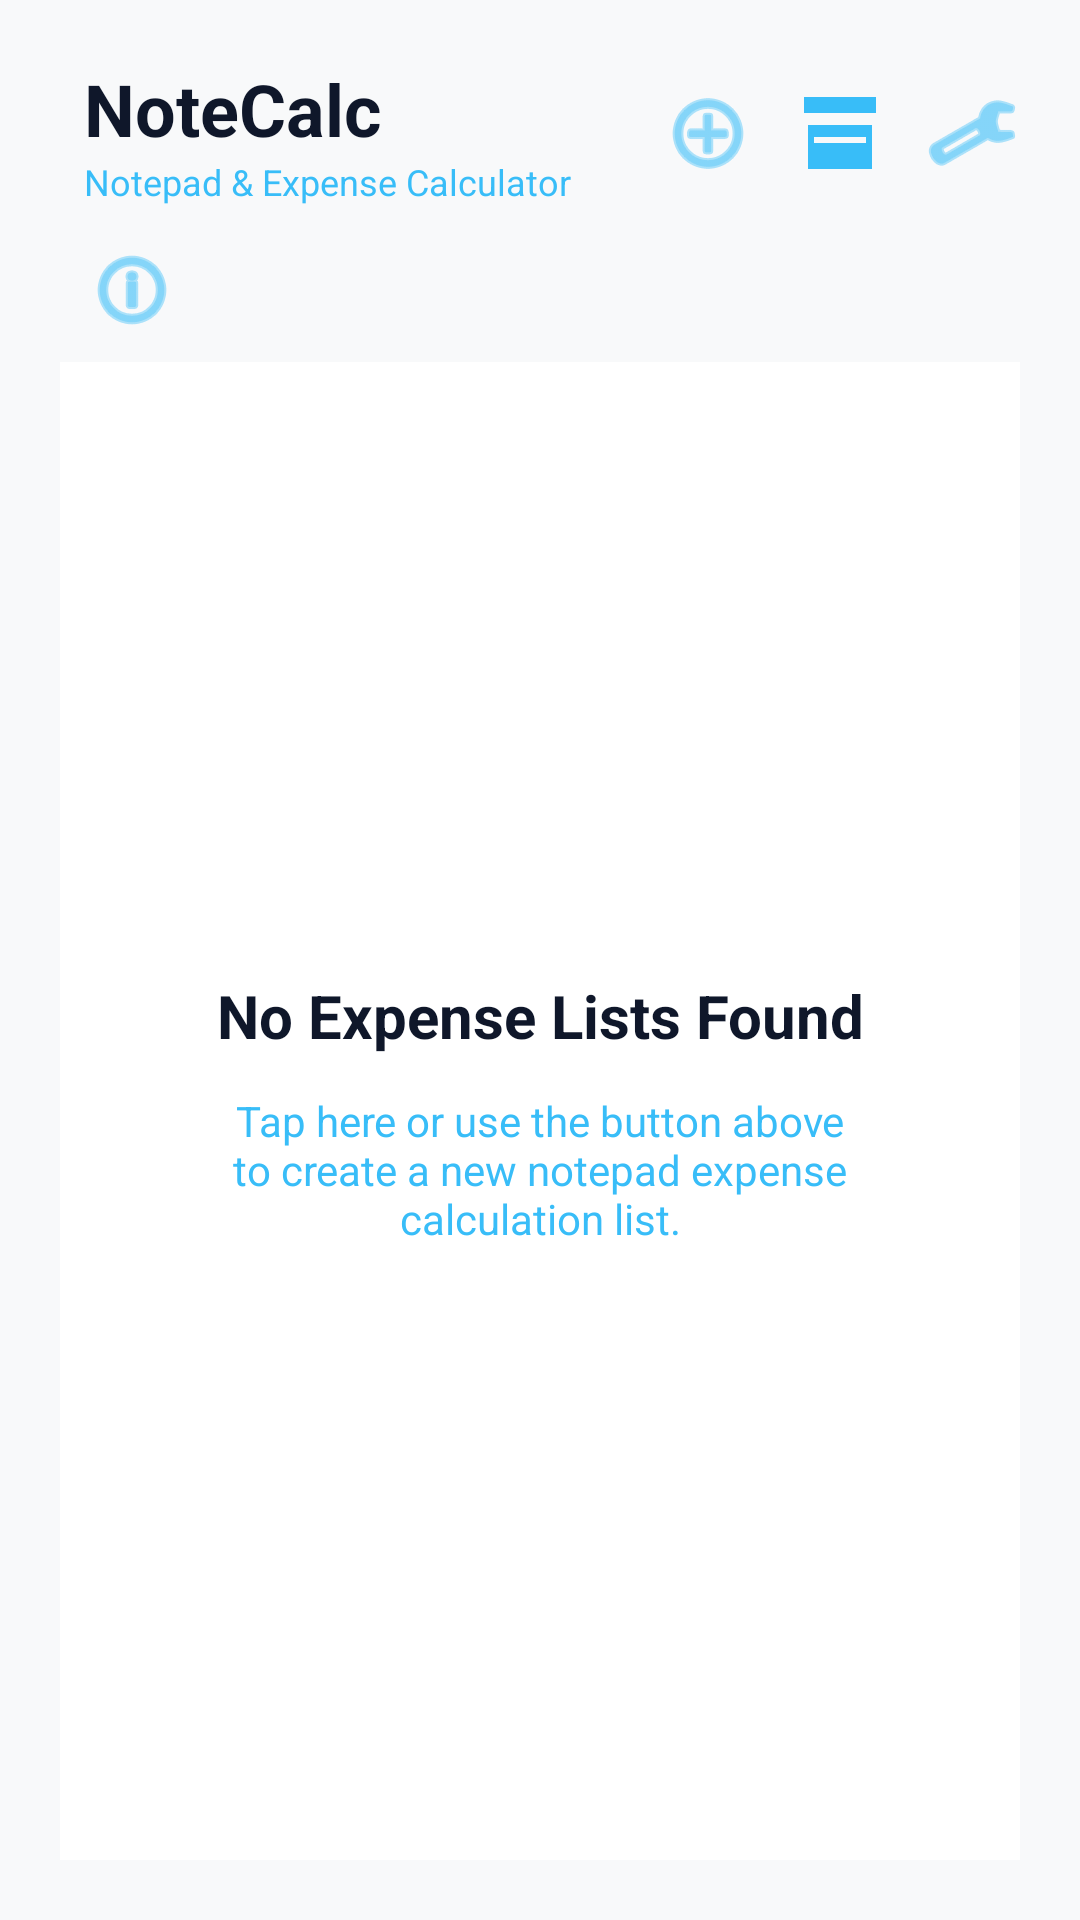

Icons on this 1080 × 1920 Android screen, each with its box as (x1, y1, x2, y2):
Add: (672, 98, 744, 169)
Archive: (804, 97, 876, 169)
Settings: (929, 100, 1015, 166)
Tips and Features: (97, 256, 167, 325)
